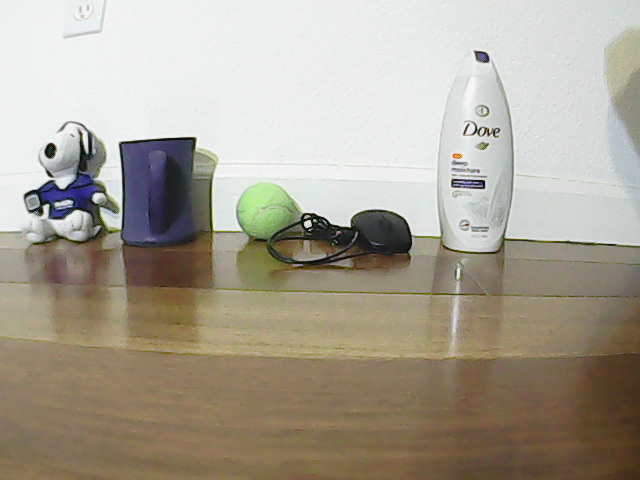ball: (236, 171, 296, 244)
mouse: (353, 199, 419, 261)
mug: (117, 121, 209, 240)
snoopy: (28, 113, 113, 249)
soap: (442, 36, 520, 264)
